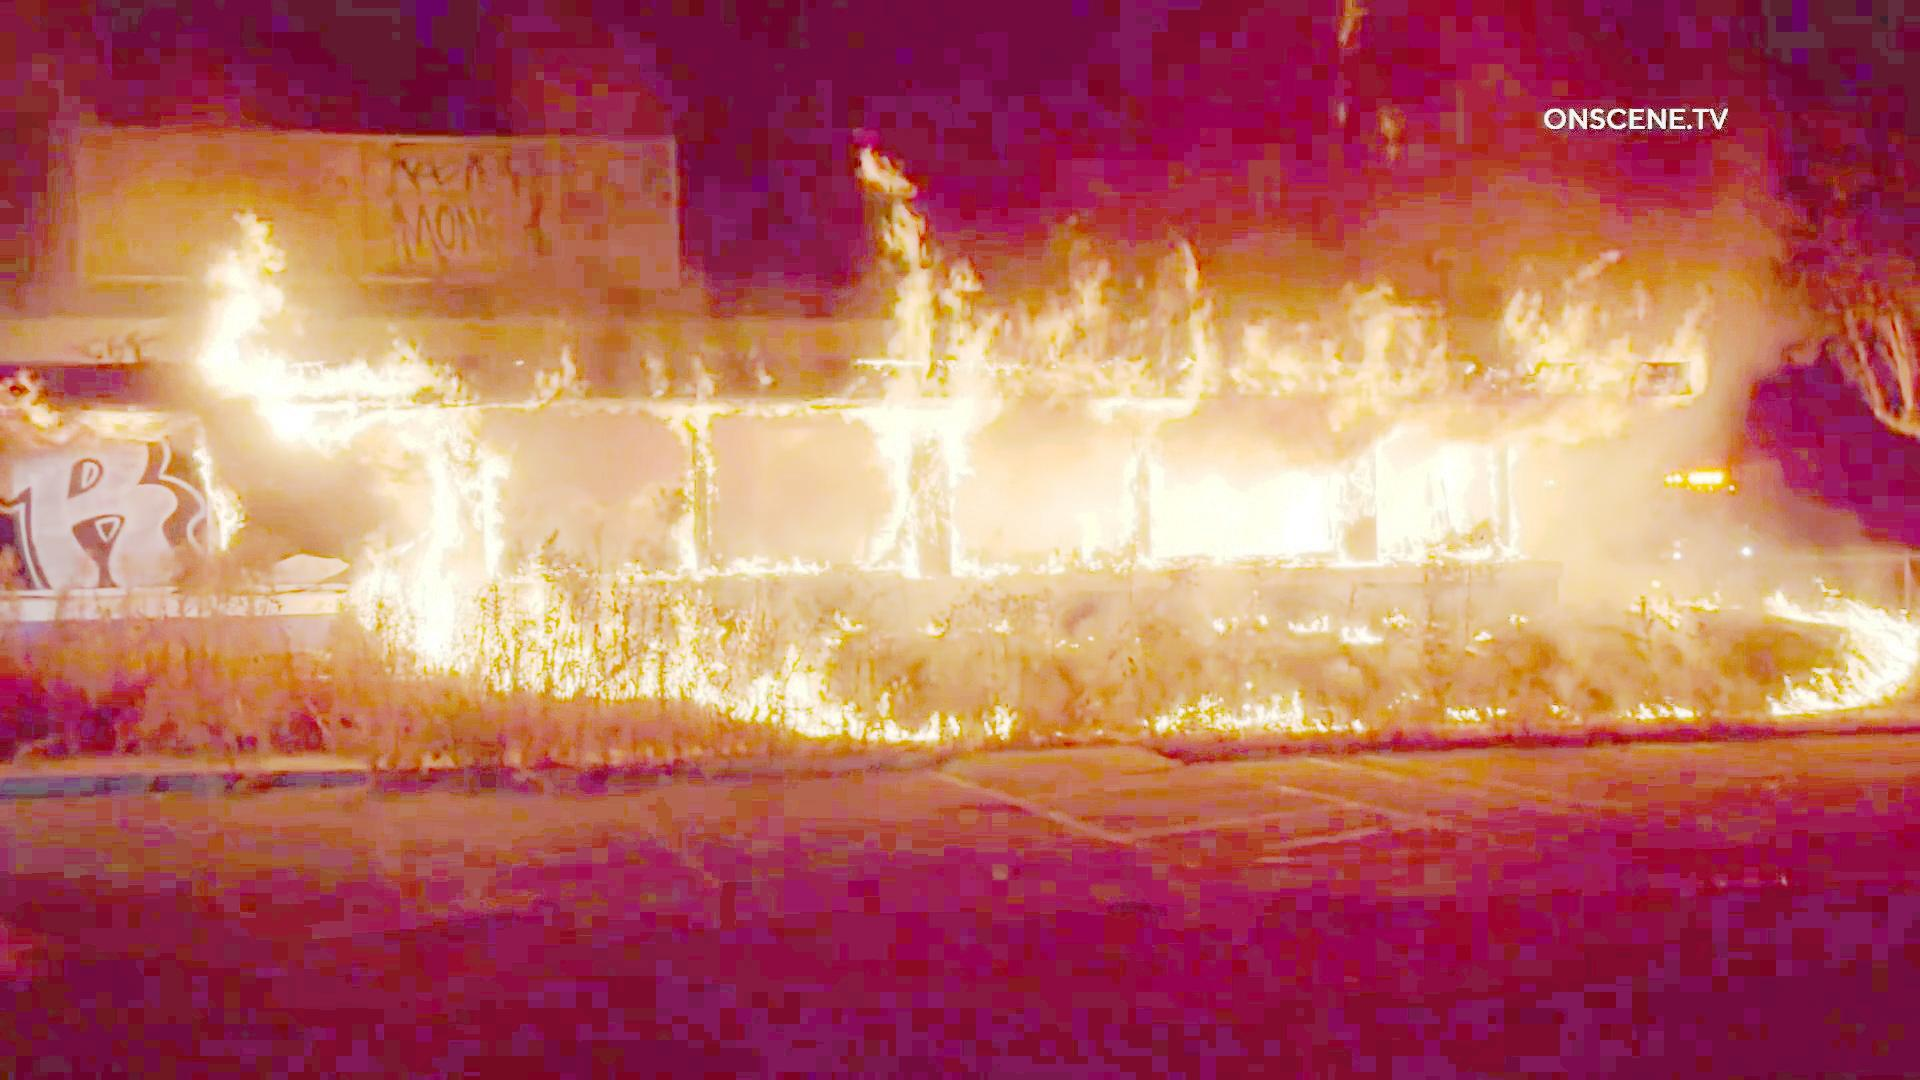fire: (203, 231, 512, 657), (1241, 287, 1705, 563), (1044, 284, 1230, 563), (865, 198, 997, 579)
